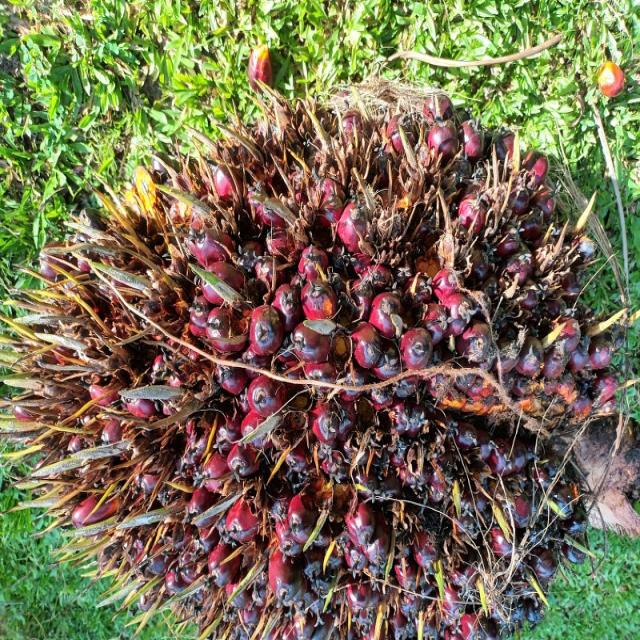fraksi 1: (1, 0, 640, 573)
